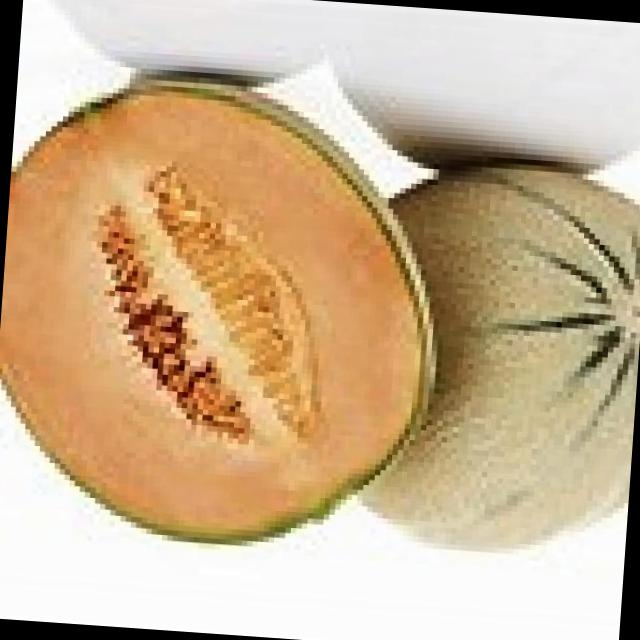Hami Melon: (0, 64, 452, 558), (350, 144, 640, 562)
